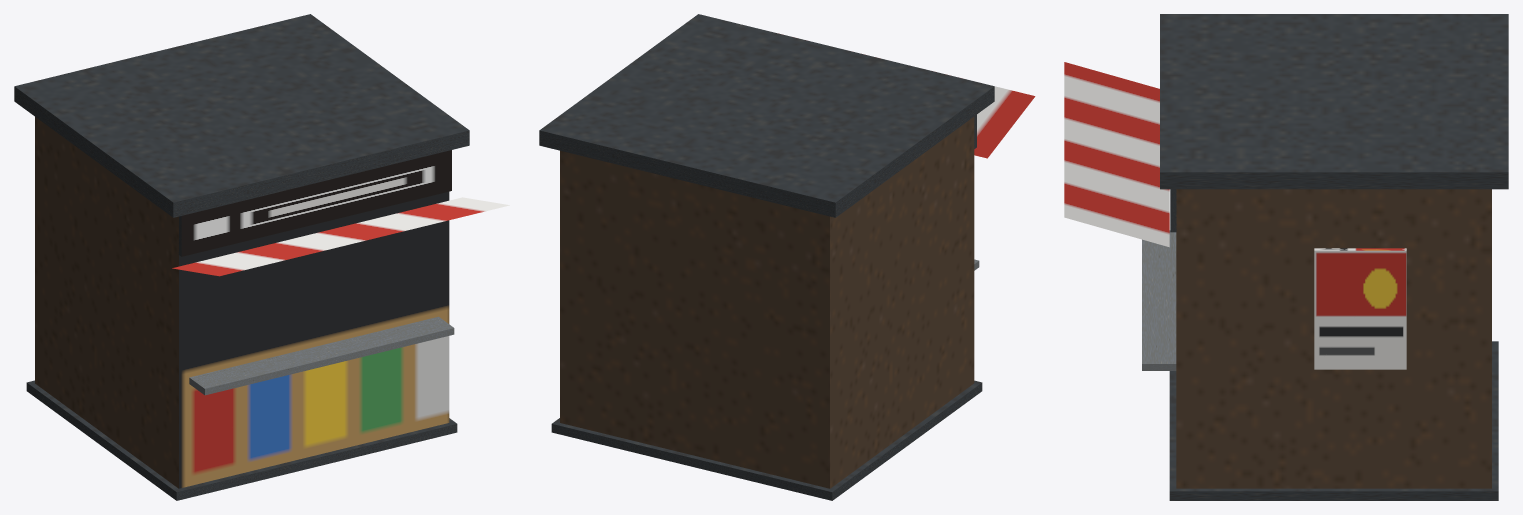
File: kiosk_m2.glb
3 renders of one model, left to right at view 1: azimuth 30°, elevation 25°; view 2: azimuth 150°, elevation 25°; view 3: azimuth 270°, elevation 25°, orthographic. The views are drawn at different scales.
Visible parts, largest first — view 1: M2; view 2: M2; view 3: M2.
Part boxes in pixels (<box>): M2: <box>14,14,509,500</box>; M2: <box>539,14,1035,500</box>; M2: <box>1064,14,1508,500</box>.
Size of the model in its own units: 2.85 by 2.79 by 3.38.
1 material, 1 textured.
